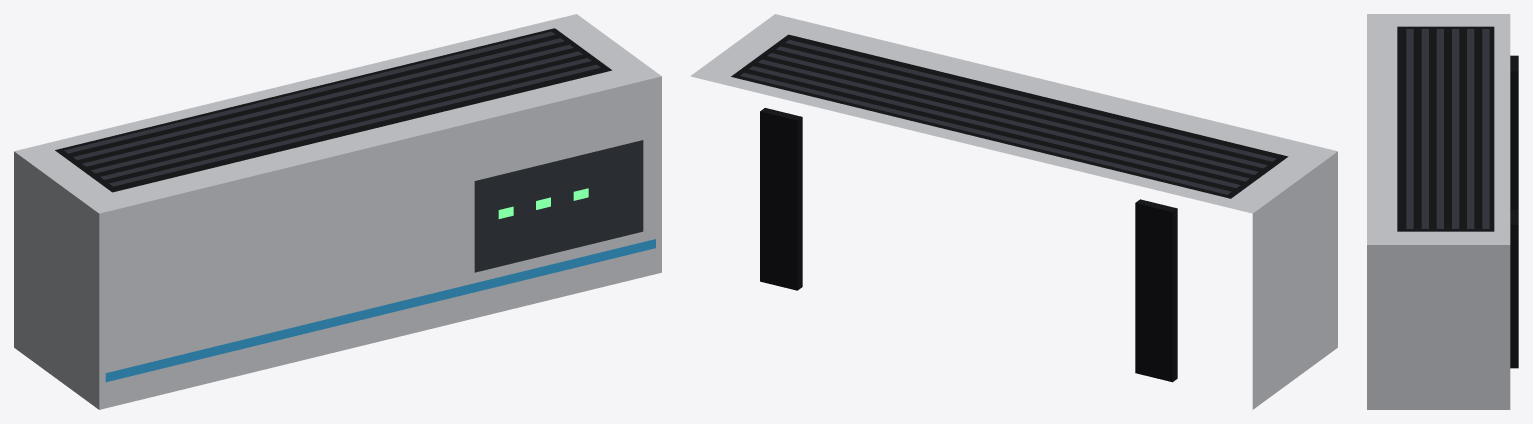
The model's file is Cooling_Wall.glb.
3 views of the same model, side by side, from view 1: azimuth 30°, elevation 25°; view 2: azimuth 150°, elevation 25°; view 3: azimuth 270°, elevation 25° (orthographic). The views are drawn at different scales.
Visible parts, largest first — view 1: Cooling_Wall; view 2: Cooling_Wall; view 3: Cooling_Wall.
Boxes of the visible parts, x1=… form: Cooling_Wall: x1=14, y1=14, x2=661, y2=409; Cooling_Wall: x1=690, y1=14, x2=1337, y2=409; Cooling_Wall: x1=1367, y1=14, x2=1518, y2=409.
Bounding box in the file's own units: 0.9 × 0.302 × 0.251.
Materials: 2 (1 with a texture image).
